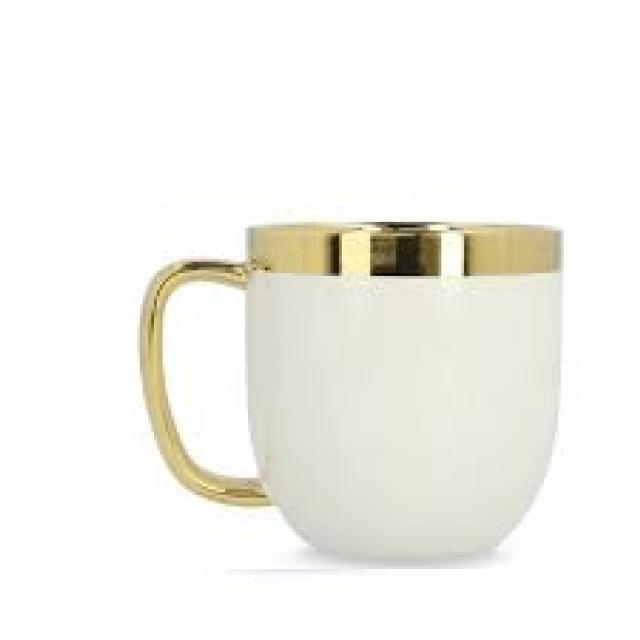taza: (138, 222, 566, 564)
